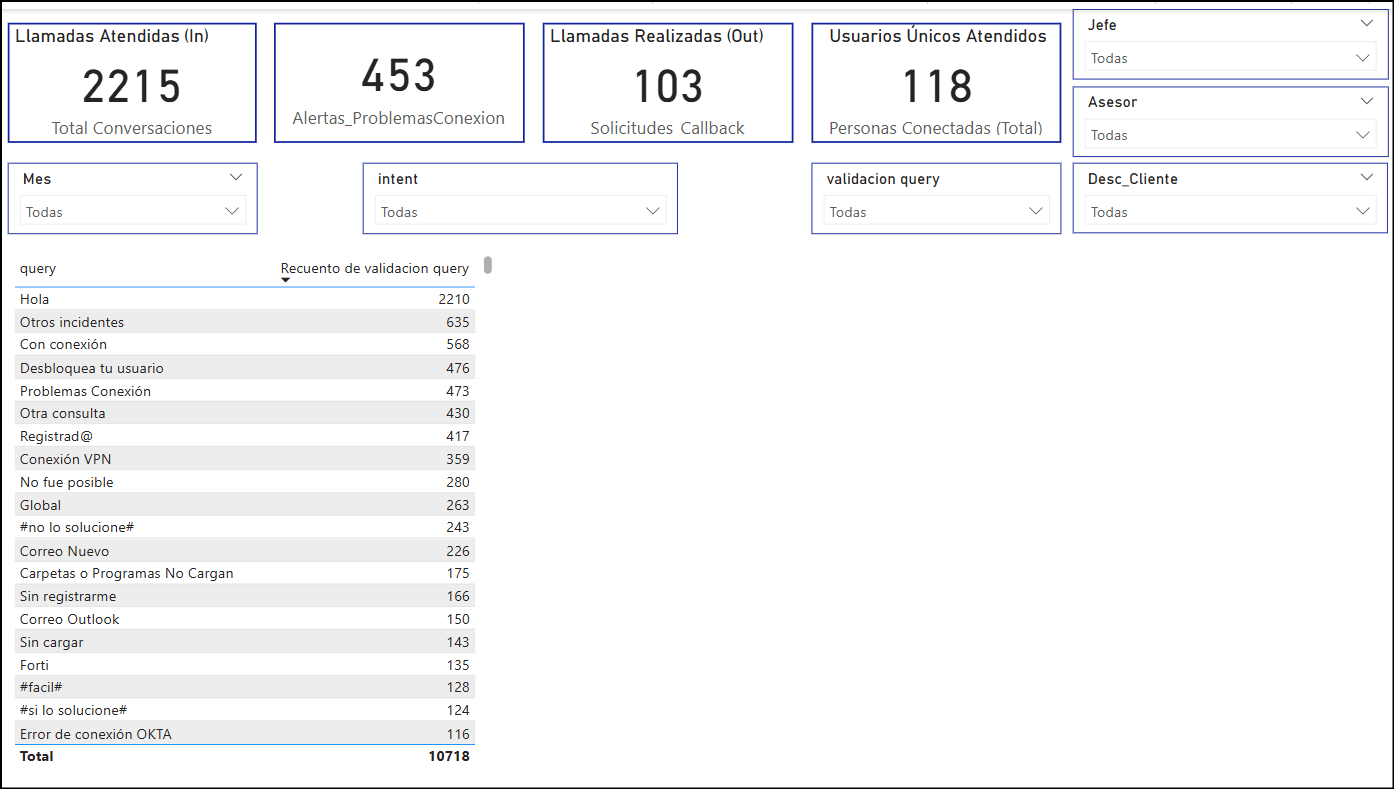

What the dashboard file says about the page in this screenshot:
{"tool":"powerbi","page":{"name":"Página 2","canvas":[1280,720],"ordinal":1},"visuals":[{"type":"tableEx","fields":{"Values":["grupo_asd_prueba representantes.query","CountNonNull(grupo_asd_prueba representantes.validacion query)"]},"box":[7.5,222.2,450.6,479.5],"z":0},{"type":"card","title":"Llamadas Atendidas (In)","fields":{"Values":["grupo_asd_prueba representantes.Total Conversaciones"]},"box":[7.8,12.8,229.1,110],"z":1000},{"type":"card","fields":{"Values":["grupo_asd_prueba representantes.Alertas_ProblemasConexion"]},"box":[253.3,12.8,230.4,110],"z":2000},{"type":"card","title":"Llamadas Realizadas (Out)","fields":{"Values":["grupo_asd_prueba representantes.Solicitudes_Callback"]},"box":[500,12.8,230.4,110],"z":3000},{"type":"card","title":"Usuarios Únicos Atendidos","fields":{"Values":["grupo_asd_prueba representantes.Usuarios Únicos"]},"box":[746.8,12.8,229.7,110.5],"z":4000},{"type":"slicer","fields":{"Values":["grupo_asd_prueba representantes.date.Variación.Jerarquía de fechas.Mes"]},"box":[7.5,141.8,229.7,65.3],"z":5000},{"type":"slicer","fields":{"Values":["grupo_asd_prueba jefe.Jefe"]},"box":[986.4,0,290,65],"z":6000},{"type":"slicer","fields":{"Values":["grupo_asd_prueba jefe.Asesor"]},"box":[986.4,71.2,290,65],"z":7000},{"type":"slicer","fields":{"Values":["grupo_asd_prueba cliente.Desc_Cliente"]},"box":[986.4,141.8,290,65],"z":8000},{"type":"slicer","fields":{"Values":["grupo_asd_prueba representantes.intent"]},"box":[334,141.8,289.9,65.3],"z":9000},{"type":"slicer","fields":{"Values":["grupo_asd_prueba representantes.validacion query"]},"box":[746.8,141.8,229.7,65.3],"z":10000}]}

Visuals, with their boxes in screenshot pixels (x1, y1, x2, y2), scaled from the page's 1280x720 canvas onto the 1394x789 screenshot:
tableEx - grupo_asd_prueba representantes.query x CountNonNull(grupo_asd_prueba representantes.validacion query): Rect(8, 243, 499, 769)
"Llamadas Atendidas (In)" card: Rect(8, 14, 258, 135)
card - grupo_asd_prueba representantes.Alertas_ProblemasConexion: Rect(276, 14, 527, 135)
"Llamadas Realizadas (Out)" card: Rect(545, 14, 795, 135)
"Usuarios Únicos Atendidos" card: Rect(813, 14, 1063, 135)
slicer - grupo_asd_prueba representantes.date.Variación.Jerarquía de fechas.Mes: Rect(8, 155, 258, 227)
slicer - grupo_asd_prueba jefe.Jefe: Rect(1074, 0, 1390, 71)
slicer - grupo_asd_prueba jefe.Asesor: Rect(1074, 78, 1390, 149)
slicer - grupo_asd_prueba cliente.Desc_Cliente: Rect(1074, 155, 1390, 227)
slicer - grupo_asd_prueba representantes.intent: Rect(364, 155, 679, 227)
slicer - grupo_asd_prueba representantes.validacion query: Rect(813, 155, 1063, 227)
